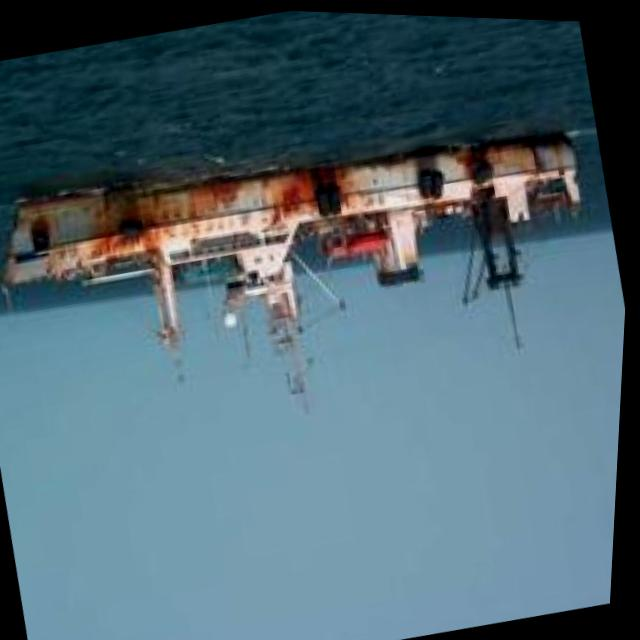ship2: (2, 124, 584, 411)
